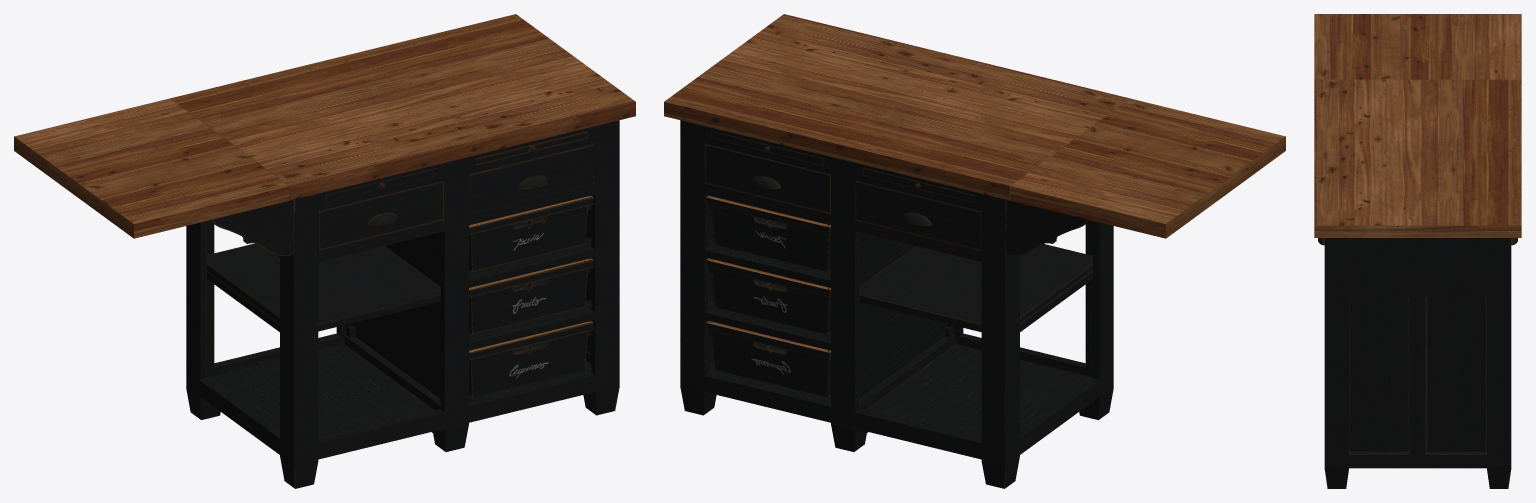
The model's file is example59.gltf.
The picture shows the model from 3 angles, left to right: view 1: azimuth 30°, elevation 25°; view 2: azimuth 150°, elevation 25°; view 3: azimuth 270°, elevation 25°; orthographic projection. The views are drawn at different scales.
Size of the model in its own units: 145 by 86 by 60.
4 materials, 3 textured.
